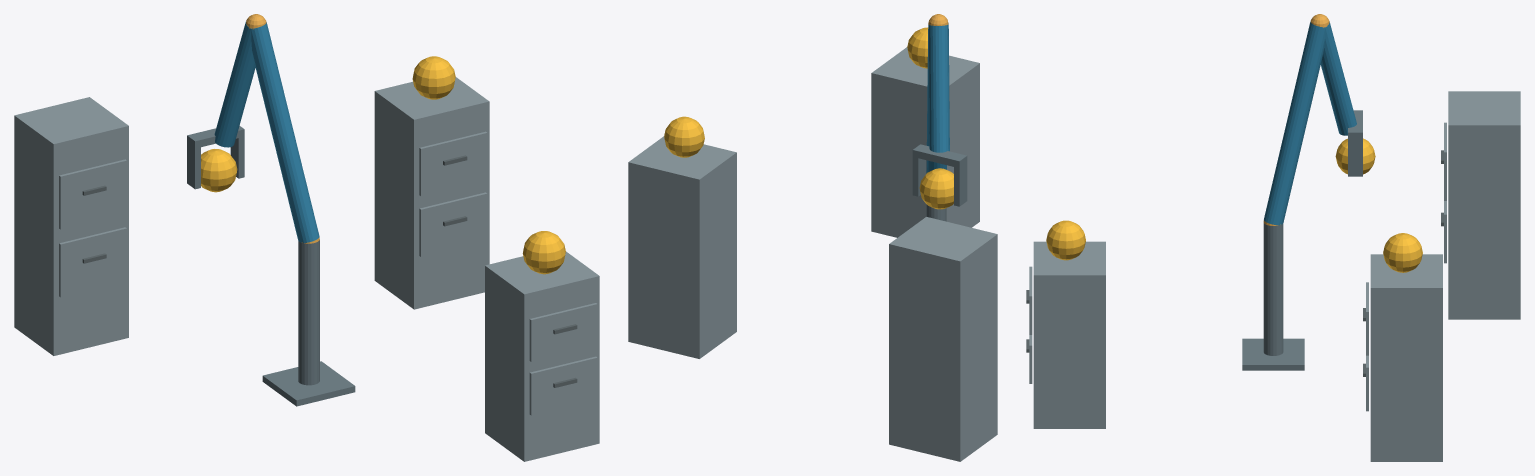
3 views of the same model, side by side, from view 1: azimuth 30°, elevation 25°; view 2: azimuth 150°, elevation 25°; view 3: azimuth 270°, elevation 25° (orthographic). The views are drawn at different scales.
Visible parts, largest first — view 1: cabinet_3 body, cabinet_2 body, cabinet_1 body, moving link 1, cabinet_3 drawer front, cabinet_3 drawer front.001, cabinet_2 drawer front, cabinet_2 drawer front.001, fixed post, cabinet_1 drawer front, cabinet_1 drawer front.001, moving link 2 (+4 smaller); view 2: cabinet_3 body, cabinet_2 body, cabinet_1 body, moving link 2, released ball_2, ball ball_3, gripper bridge, released ball_1, gripper finger -1, gripper finger 1, moving link 1; view 3: cabinet_3 body, cabinet_2 body, cabinet_1 body, moving link 1, fixed post, moving link 2, pedestal, released ball_1, released ball_2, ball ball_3, gripper finger 1.
Boxes of the visible parts, x1,y1,x2,y2 form: cabinet_3 body: [14, 97, 128, 355]; cabinet_2 body: [374, 77, 489, 309]; cabinet_1 body: [485, 251, 599, 461]; moving link 1: [251, 22, 319, 242]; cabinet_3 drawer front: [59, 227, 126, 297]; cabinet_3 drawer front.001: [59, 159, 126, 229]; cabinet_2 drawer front: [419, 192, 487, 256]; cabinet_2 drawer front.001: [419, 131, 487, 196]; fixed post: [298, 239, 319, 385]; cabinet_1 drawer front: [529, 356, 597, 415]; cabinet_1 drawer front.001: [529, 303, 597, 361]; moving link 2: [214, 22, 255, 147]; cabinet_3 body: [889, 217, 997, 461]; cabinet_2 body: [628, 136, 736, 358]; cabinet_1 body: [871, 47, 979, 237]; moving link 2: [928, 24, 949, 152]; released ball_2: [664, 116, 704, 157]; ball ball_3: [919, 168, 953, 209]; gripper bridge: [912, 144, 967, 168]; released ball_1: [907, 27, 928, 68]; gripper finger -1: [954, 163, 967, 206]; gripper finger 1: [912, 157, 925, 196]; moving link 1: [926, 23, 948, 173]; cabinet_3 body: [1448, 91, 1520, 319]; cabinet_2 body: [1370, 254, 1442, 461]; cabinet_1 body: [1033, 241, 1105, 428]; moving link 1: [1264, 22, 1325, 225]; fixed post: [1263, 223, 1283, 355]; moving link 2: [1320, 21, 1356, 135]; pedestal: [1242, 338, 1304, 370]; released ball_1: [1046, 220, 1085, 260]; released ball_2: [1383, 233, 1422, 272]; ball ball_3: [1335, 138, 1375, 174]; gripper finger 1: [1348, 139, 1362, 176].
Size of the model in its own units: 1.67 by 1.46 by 1.98.
